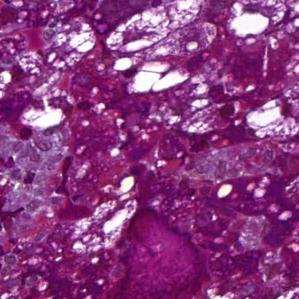ballooning: (104, 6, 179, 55), (127, 61, 190, 96)
